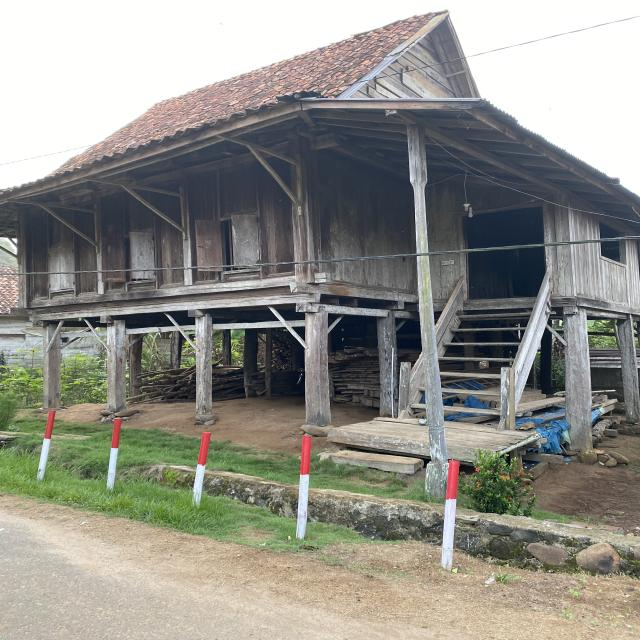Kolom: (244, 328, 259, 398)
Pintu: (463, 206, 548, 300)
Tangga: (398, 270, 552, 430)
